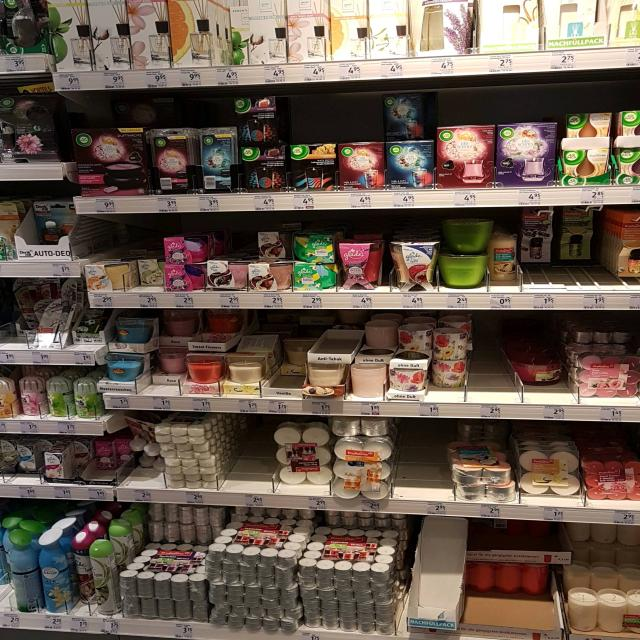void: (398, 423, 446, 516), (472, 319, 513, 416), (224, 428, 268, 505), (261, 344, 299, 414), (1, 305, 29, 361)
